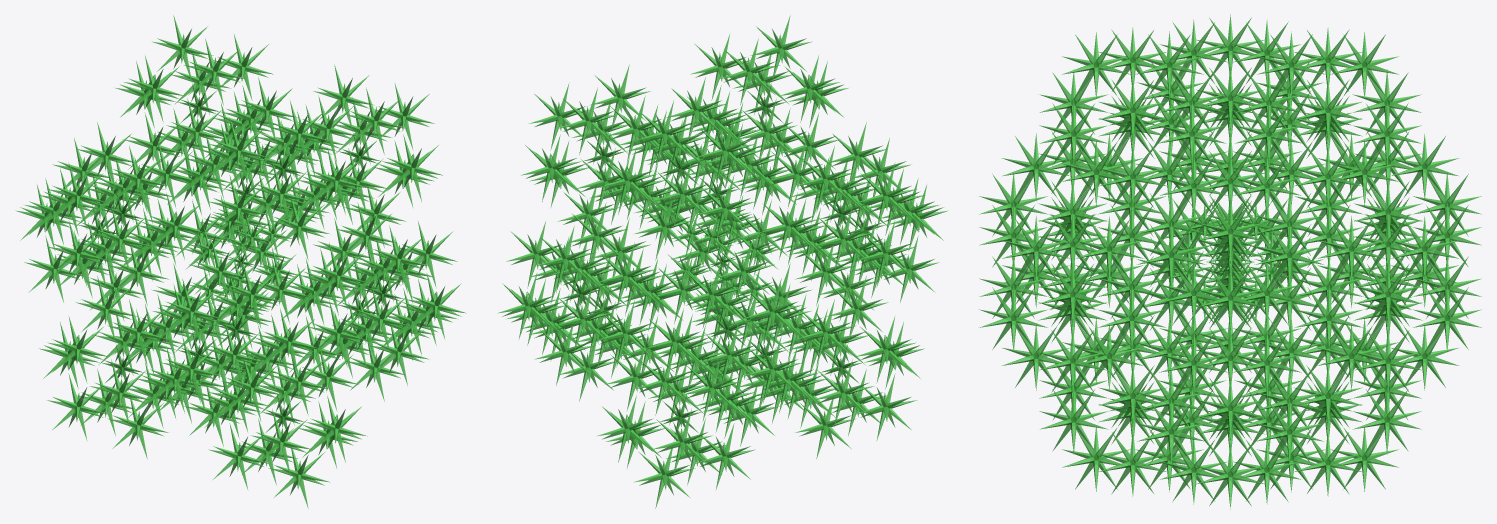
File: fractalgreatpentakisdodecahedron2.glb
The picture shows the model from 3 angles, left to right: view 1: azimuth 30°, elevation 25°; view 2: azimuth 150°, elevation 25°; view 3: azimuth 270°, elevation 25°; orthographic projection. The views are drawn at different scales.
Size of the model in its own units: 10.47 by 10.47 by 10.47.
